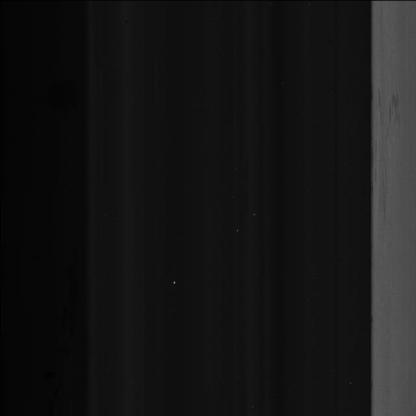silk_spot: (372, 60, 407, 218)
